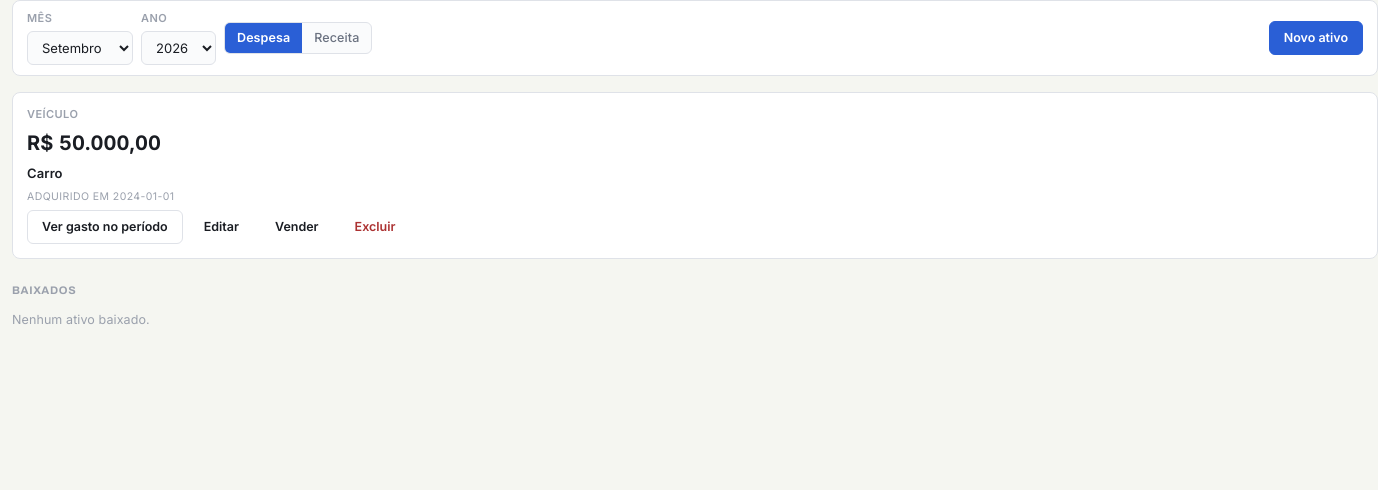
AssetsPage › toggling despesa/receita refetches por-ativo and the drilldown with the selected tipo
Expected: the text "Carro" is shown, [27,165,63,181]
Click the button "Ver gasto no período".
click(105, 227)  # box [27,210,183,244]
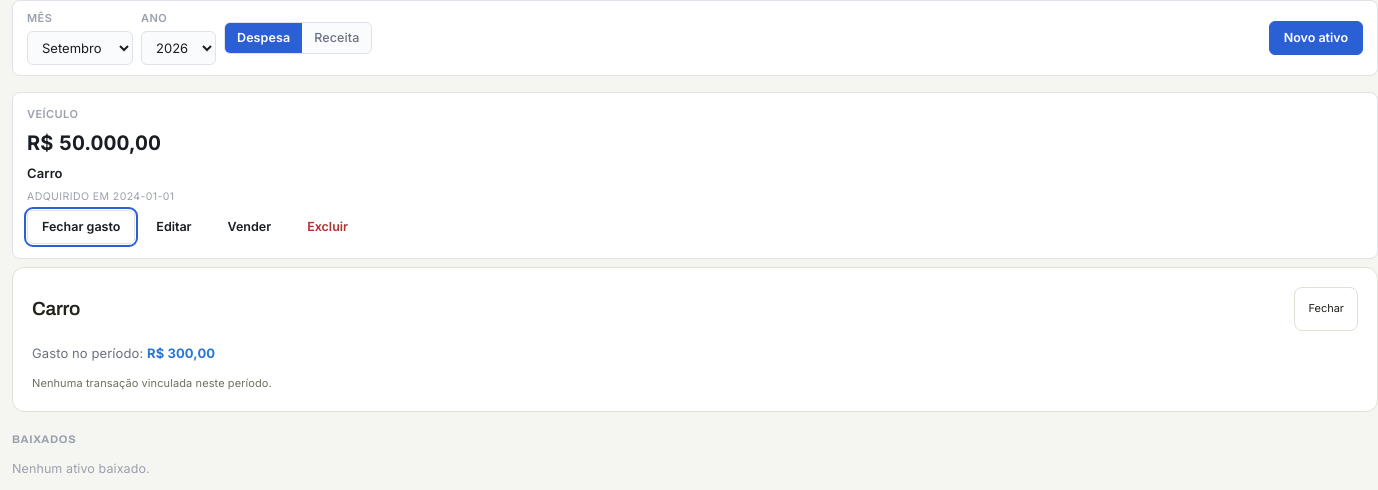
Result: the text "R$ 300,00" is shown at [147,345,215,361]
Click the button "Receita".
click(337, 38)  # box [302,23,371,53]
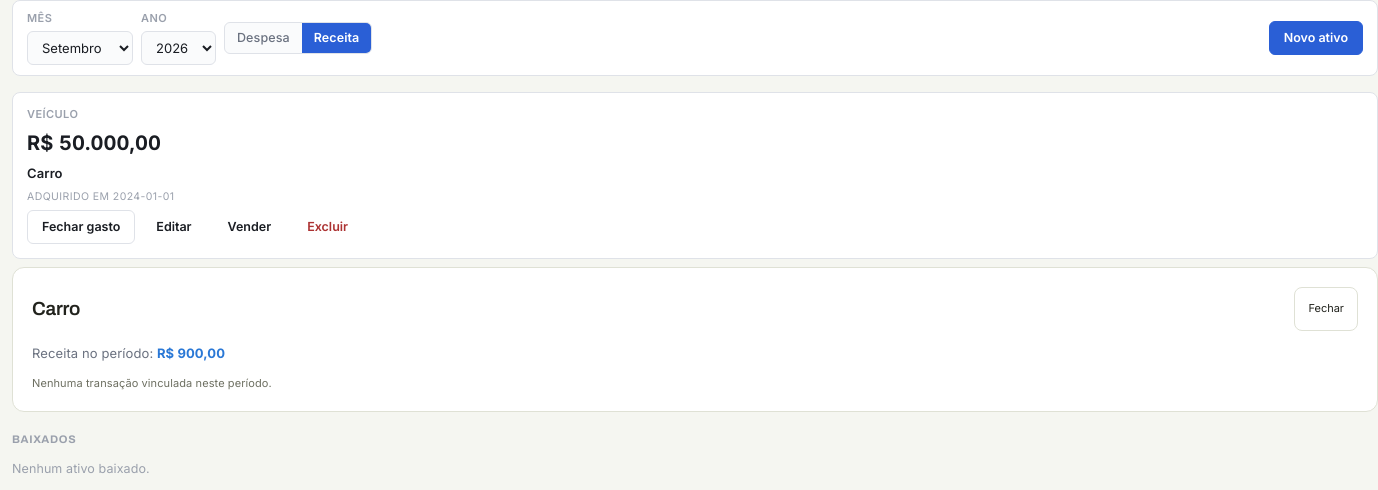
Result: the text "R$ 900,00" is shown at [157,345,225,361]
